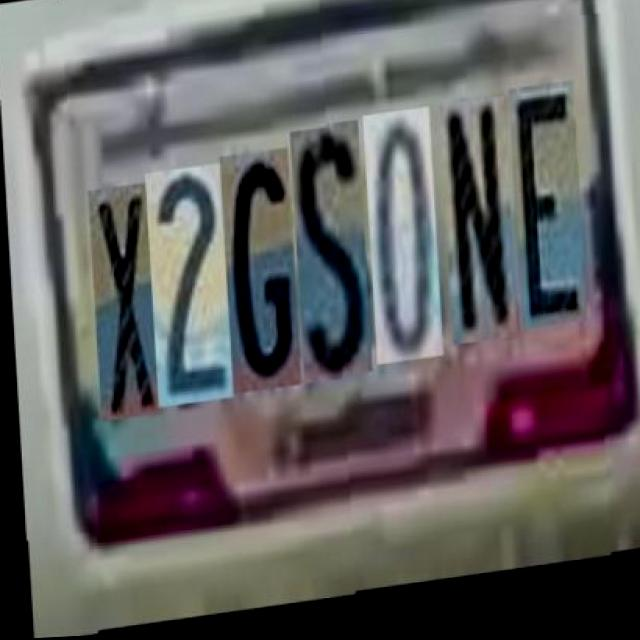2: (143, 165, 229, 409)
e: (506, 97, 582, 345)
g: (216, 152, 296, 398)
n: (437, 111, 514, 359)
o: (361, 119, 438, 377)
s: (288, 130, 368, 391)
x: (85, 183, 157, 422)
